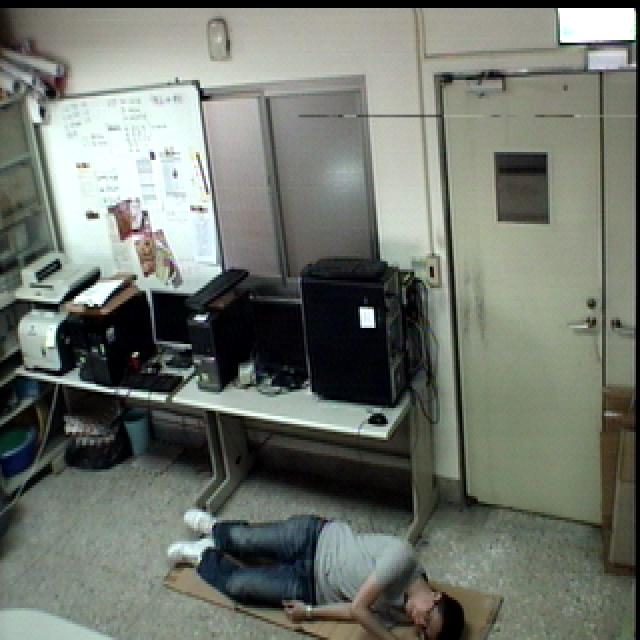lie: (157, 491, 468, 640)
